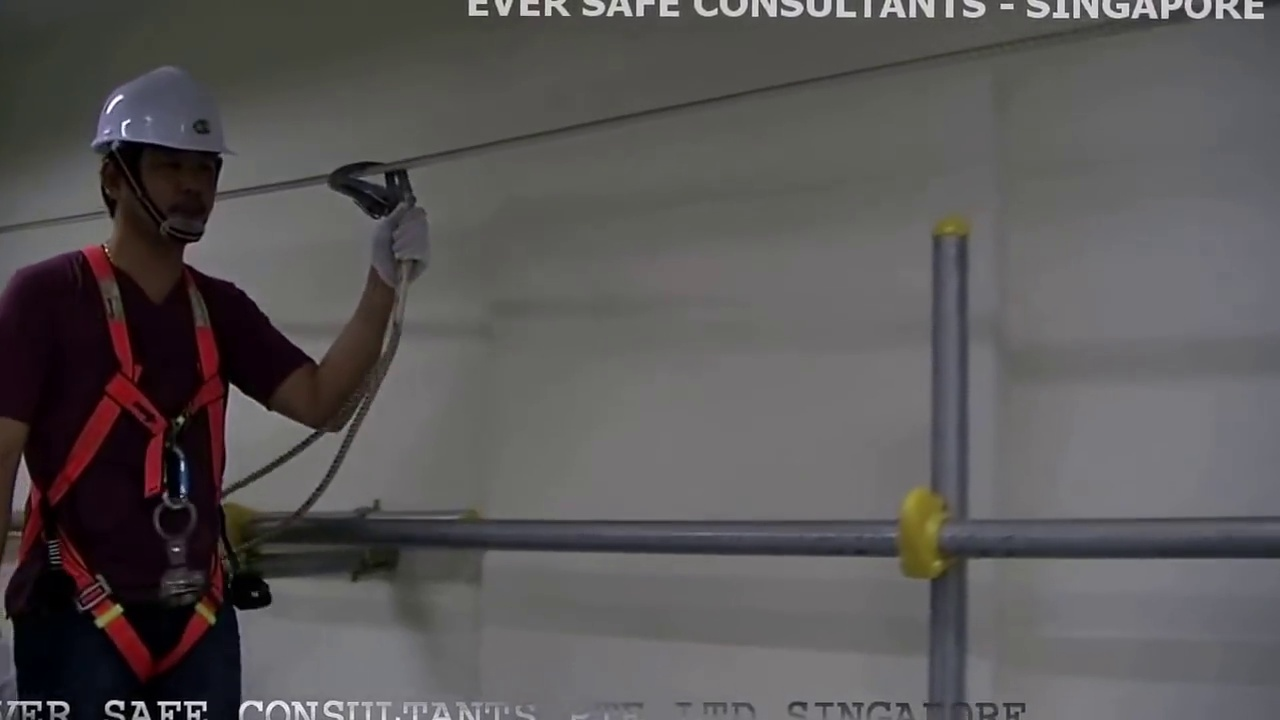harness: (52, 258, 227, 643)
helmet: (93, 67, 230, 158)
hook: (326, 152, 422, 211)
leash: (242, 279, 418, 551)
